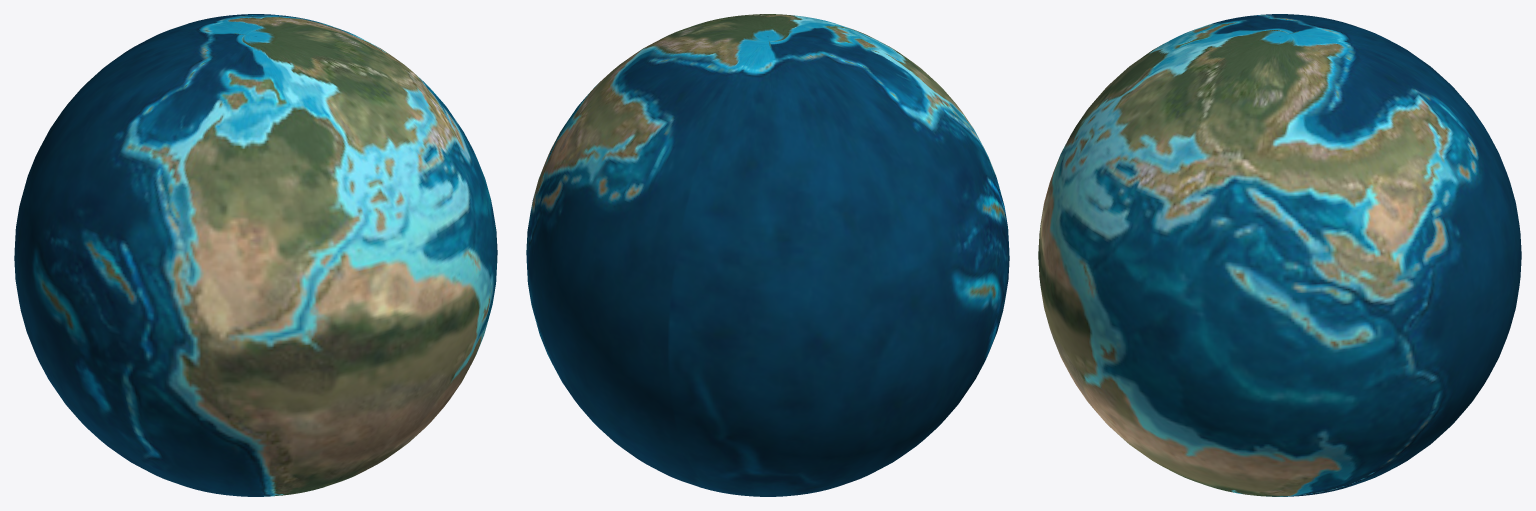
The model's file is paleogeographic_timelapse.glb.
3 views of the same model, side by side, from view 1: azimuth 30°, elevation 25°; view 2: azimuth 150°, elevation 25°; view 3: azimuth 270°, elevation 25° (orthographic).
Parts seen in each view (by area): view 1: frame_0; view 2: frame_0; view 3: frame_0.
Part boxes in pixels (bbox=[...]): frame_0: bbox=[14, 14, 497, 496]; frame_0: bbox=[526, 14, 1009, 496]; frame_0: bbox=[1038, 14, 1521, 496].
Bounding box in the file's own units: 2 × 2 × 2.
20 materials, 20 textured.
